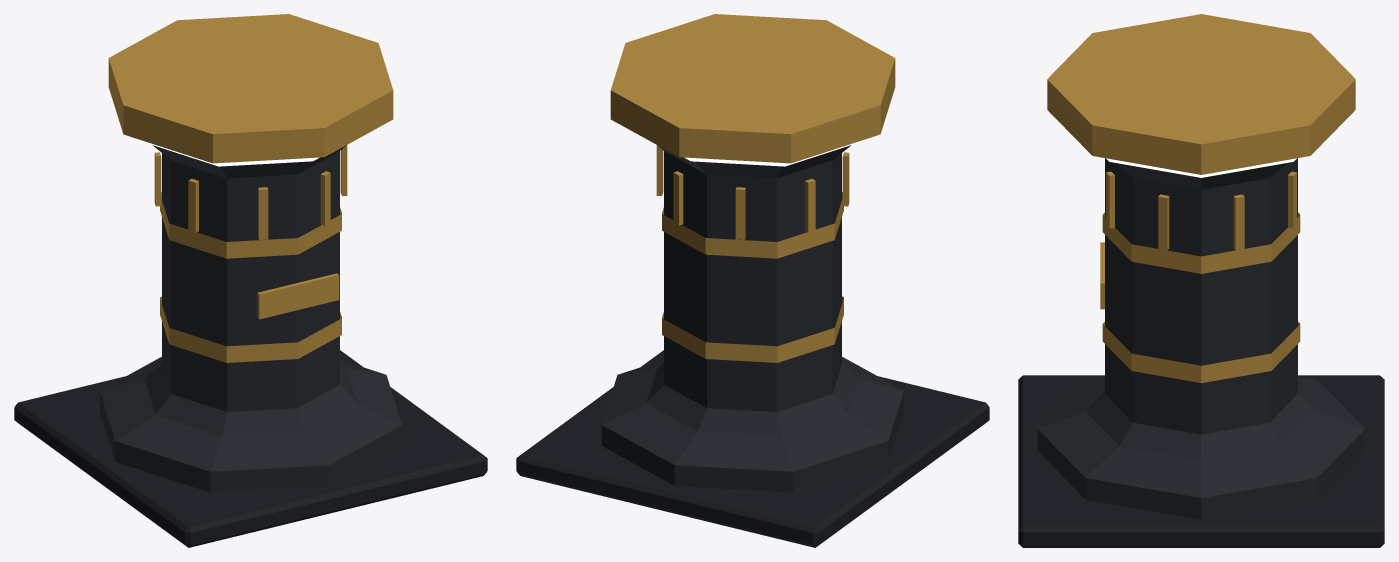
Rendered from kit-newyork-pedestal.glb.
3 renders of one model, left to right at view 1: azimuth 30°, elevation 25°; view 2: azimuth 150°, elevation 25°; view 3: azimuth 270°, elevation 25°, orthographic. The views are drawn at different scales.
Parts seen in each view (by area): view 1: kit-newyork-pedestal; view 2: kit-newyork-pedestal; view 3: kit-newyork-pedestal.
Part boxes in pixels (x1,y1,x2,y2): kit-newyork-pedestal: (14, 14, 487, 547); kit-newyork-pedestal: (516, 14, 989, 547); kit-newyork-pedestal: (1018, 14, 1384, 547).
Bounding box in the file's own units: 0.76 × 0.9 × 0.76.
